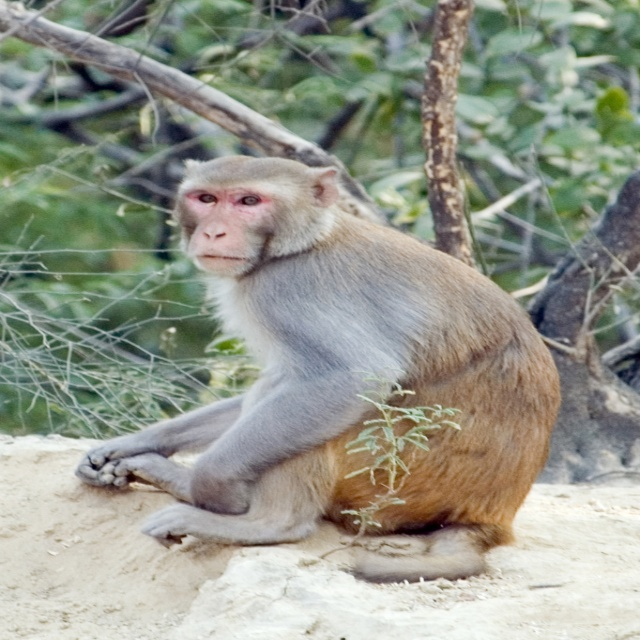Monkey: (73, 157, 563, 584)
